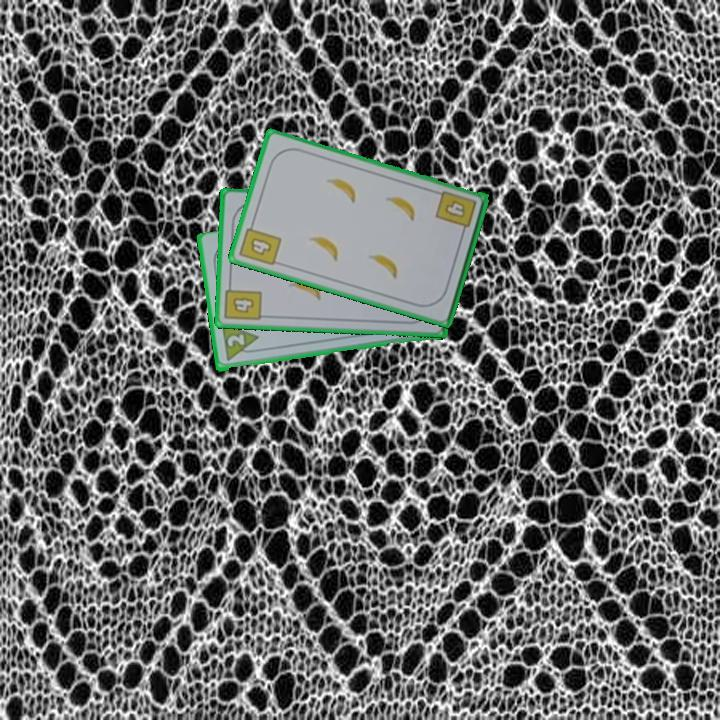2p: (218, 321, 263, 364)
4b: (236, 218, 284, 269), (432, 187, 479, 238), (221, 279, 264, 324)
